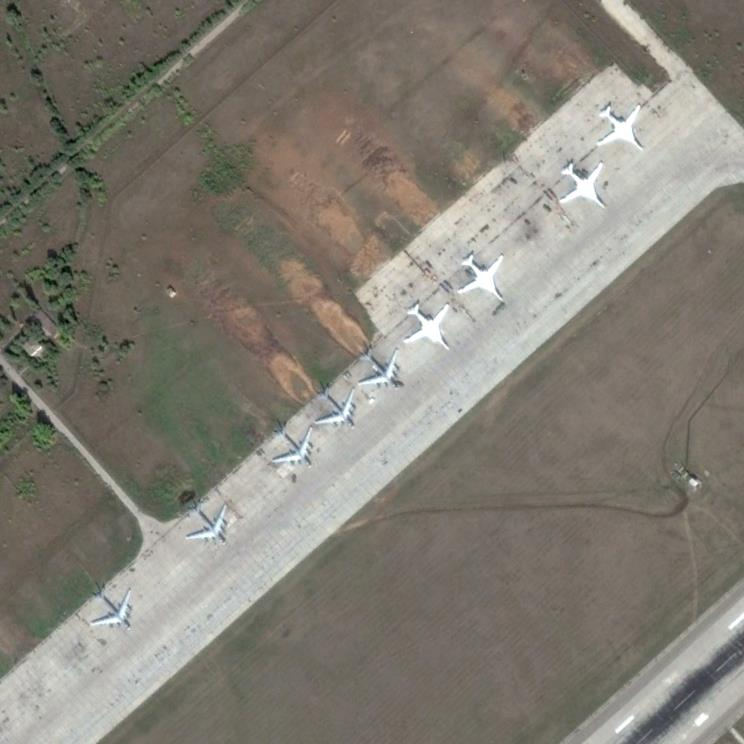A17: (90, 587, 135, 632), (315, 388, 360, 432), (358, 348, 402, 392), (273, 425, 315, 470), (186, 503, 229, 546)
A6: (403, 302, 454, 353), (558, 160, 608, 212), (456, 254, 506, 304), (596, 103, 645, 153)
